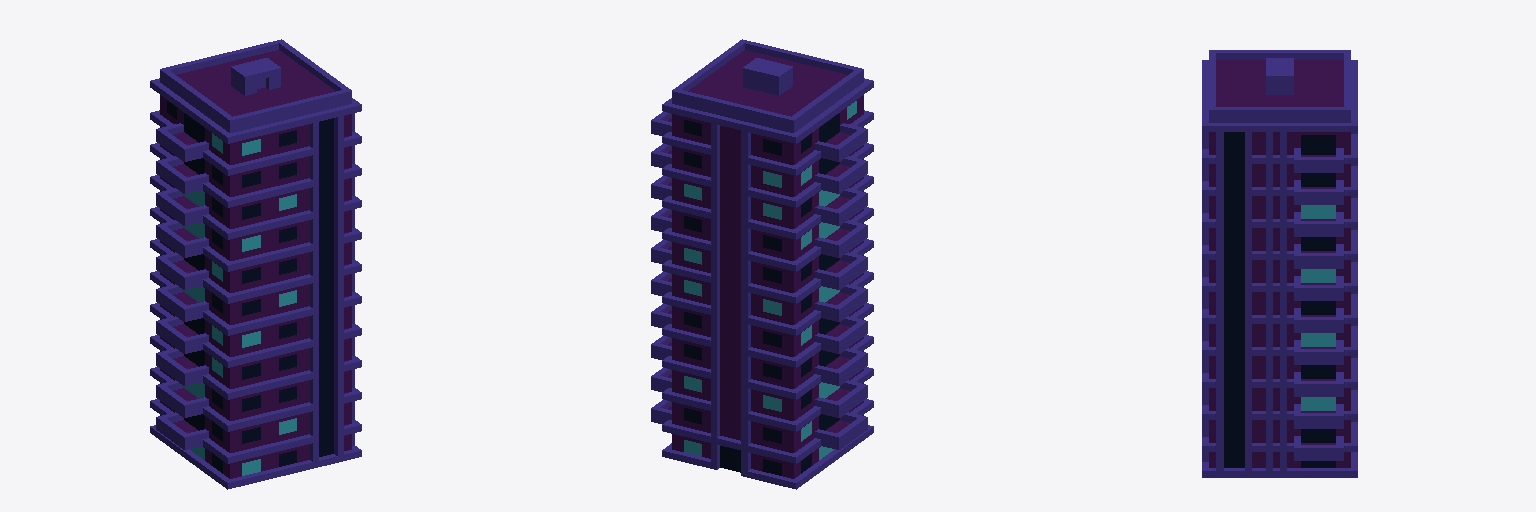
The picture shows the model from 3 angles: view 1: azimuth 30°, elevation 25°; view 2: azimuth 150°, elevation 25°; view 3: azimuth 270°, elevation 25°; orthographic projection.
Parts seen in each view (by area): view 1: object 1; view 2: object 1; view 3: object 1.
Boxes of the visible parts, <box> form: object 1: <box>150,39,361,489</box>; object 1: <box>651,39,873,489</box>; object 1: <box>1202,50,1357,477</box>.
Size of the model in its own units: 2.8 by 5.9 by 2.2.
Materials: 1 (1 with a texture image).